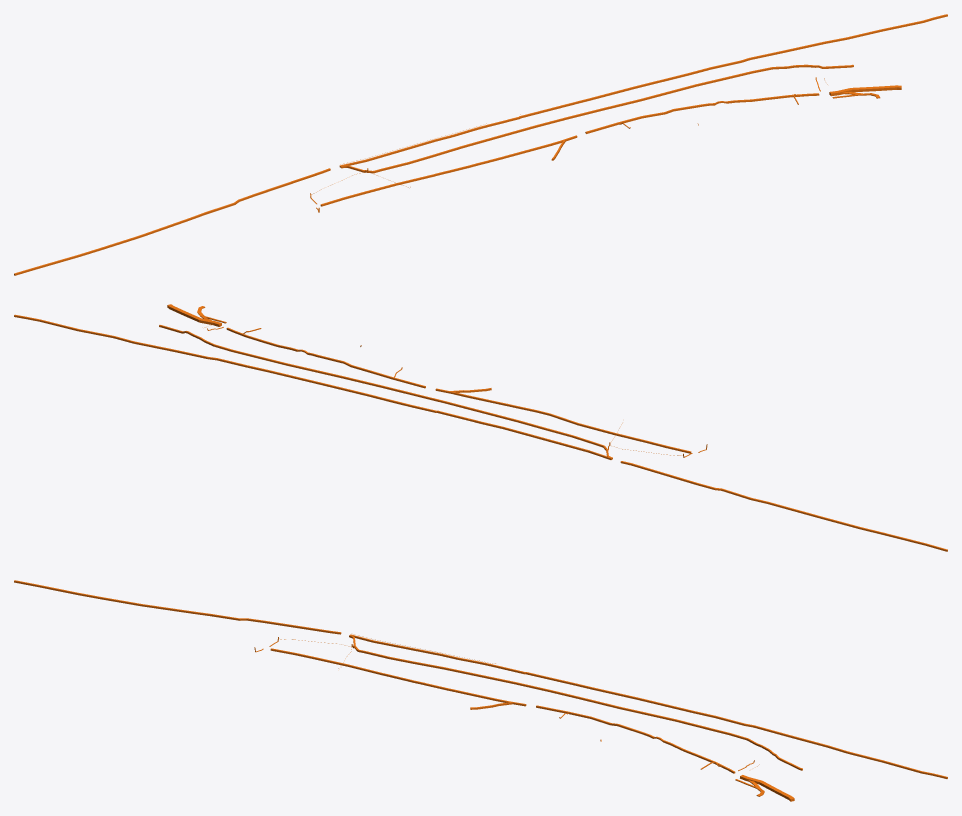
3 views of the same model, one above another, from view 1: azimuth 30°, elevation 25°; view 2: azimuth 150°, elevation 25°; view 3: azimuth 330°, elevation 25° (orthographic). The views are drawn at different scales.
Visible parts, largest first — view 1: 150, 1970, 149; view 2: 150, 1970, 149; view 3: 150, 1970, 149.
Boxes of the visible parts, <box> form: 150: <box>339,14,947,167</box>; 1970: <box>340,66,787,173</box>; 149: <box>14,168,330,275</box>; 150: <box>14,314,612,459</box>; 1970: <box>204,340,612,459</box>; 149: <box>620,461,947,551</box>; 150: <box>350,634,947,778</box>; 1970: <box>349,635,756,744</box>; 149: <box>14,580,341,634</box>.
Bounding box in the file's own units: 360 × 11.06 × 41.88.
